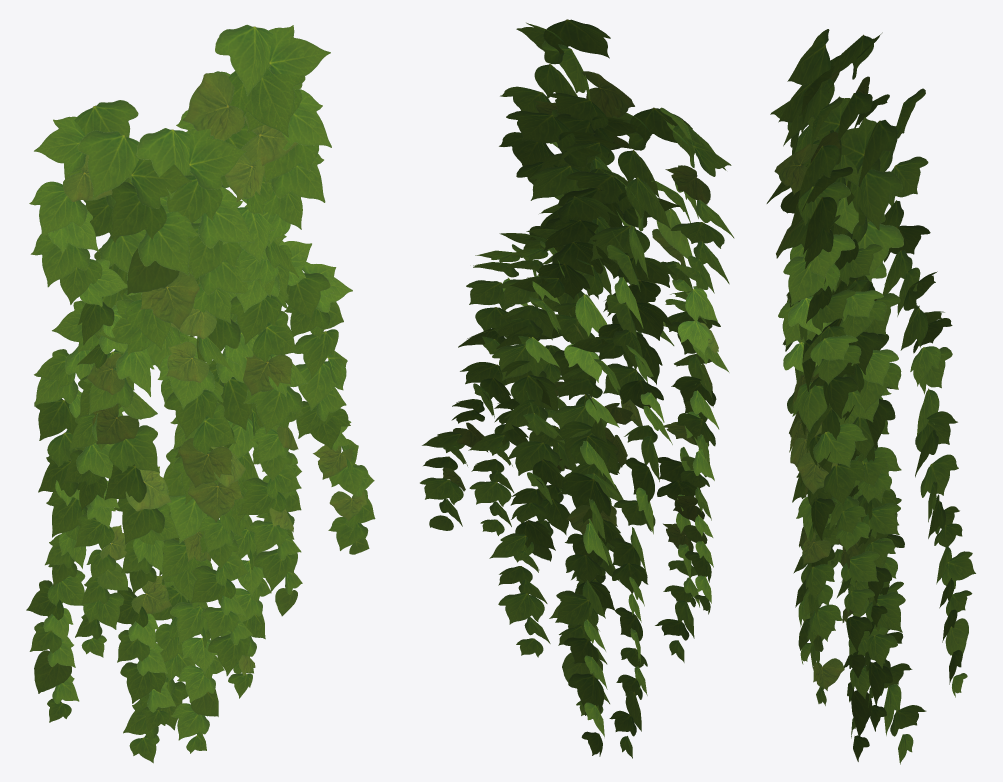
Rendered from SM_Ivy_03.fbx.
The picture shows the model from 3 angles, left to right: view 1: azimuth 30°, elevation 25°; view 2: azimuth 150°, elevation 25°; view 3: azimuth 270°, elevation 25°; orthographic projection. The views are drawn at different scales.
Visible parts, largest first — view 1: SM_Ivy_03_LOD0; view 2: SM_Ivy_03_LOD0; view 3: SM_Ivy_03_LOD0.
Boxes of the visible parts, left/top/right/bottom form: SM_Ivy_03_LOD0: left=26, top=24, right=375, bottom=763; SM_Ivy_03_LOD0: left=420, top=19, right=734, bottom=758; SM_Ivy_03_LOD0: left=766, top=29, right=975, bottom=764.
Size of the model in its own units: 102 by 55.15 by 209.
